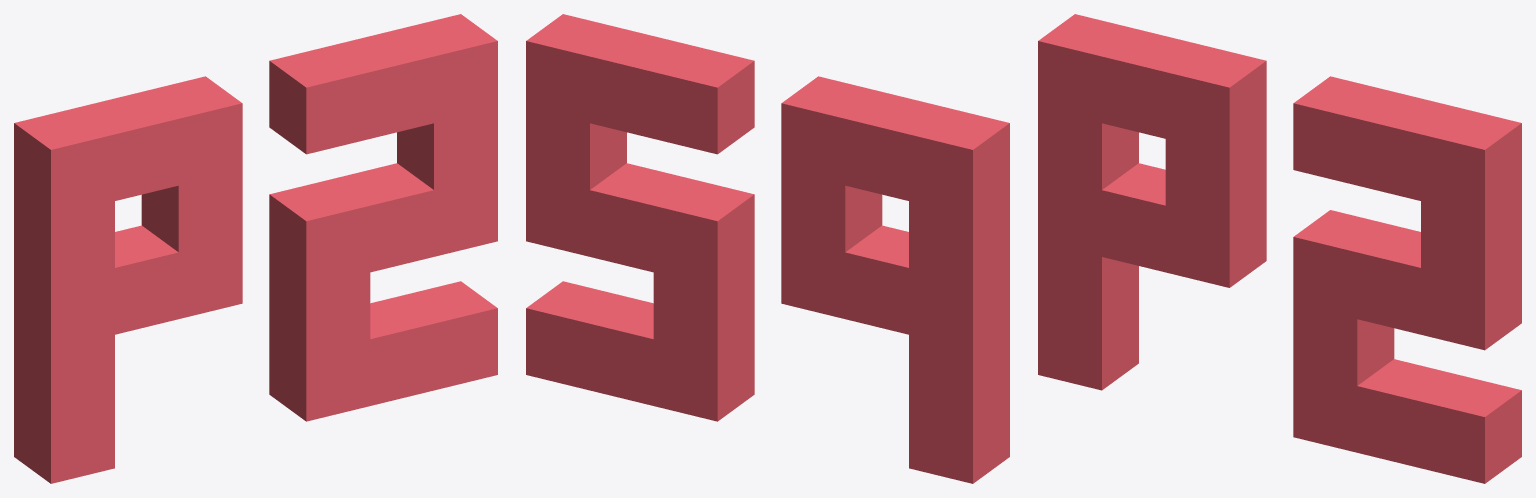
The model's file is Player 2 Icon.obj.
3 views of the same model, side by side, from view 1: azimuth 30°, elevation 25°; view 2: azimuth 150°, elevation 25°; view 3: azimuth 330°, elevation 25° (orthographic).
Size of the model in its own units: 0.7 by 0.5 by 0.1.
1 material, 1 textured.
